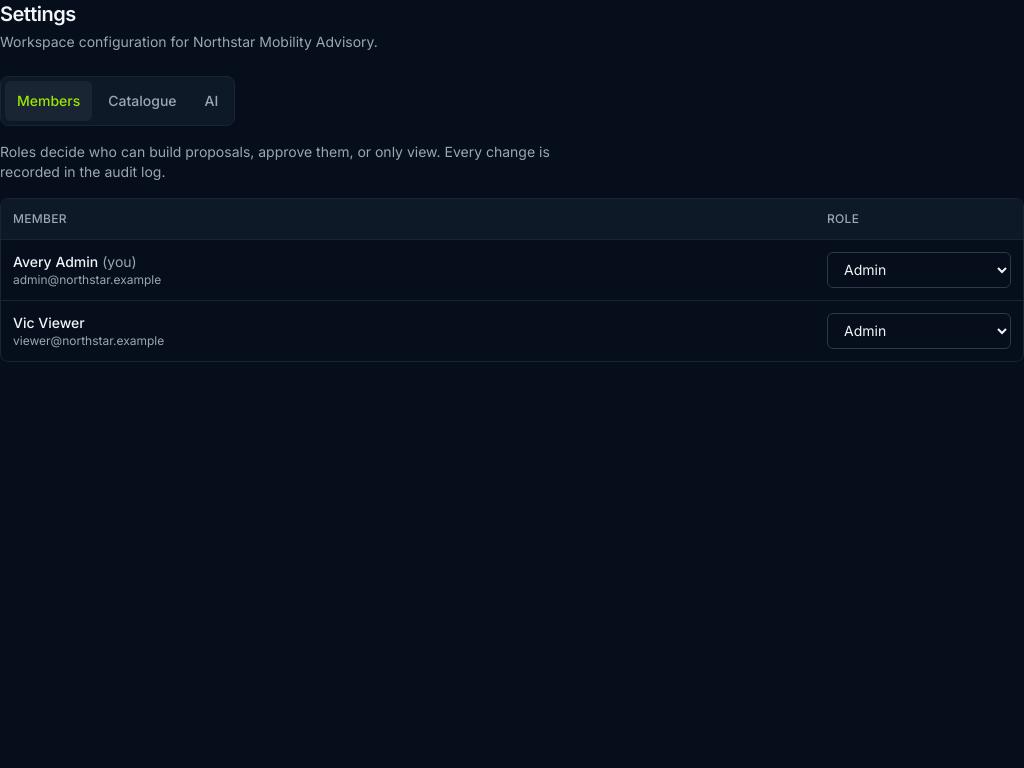
Test case: SettingsPage › warns and refreshes your own access when you step down
Select "Viewer" in the dropdown named "Role for Avery Admin" at (919, 270), box x1=827 y1=252 x2=1011 y2=288
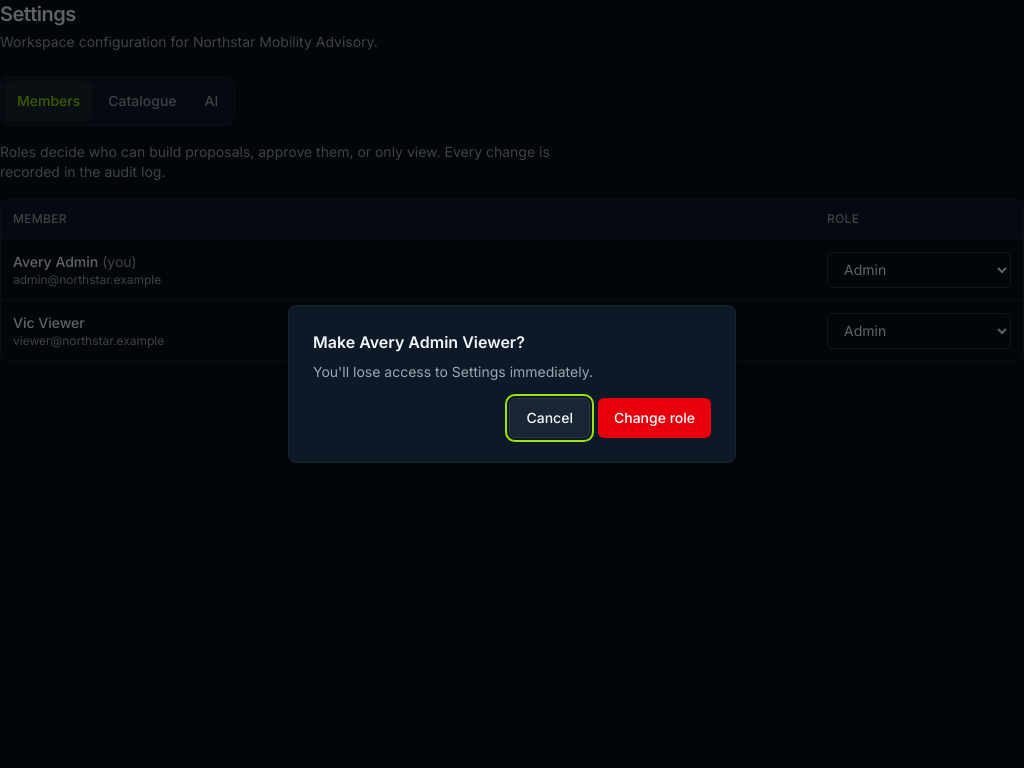
Expected: the text "You'll lose access to Settings immediately." is shown, x1=313 y1=363 x2=593 y2=380
Click the button "Change role" at (654, 418), box x1=598 y1=398 x2=711 y2=438
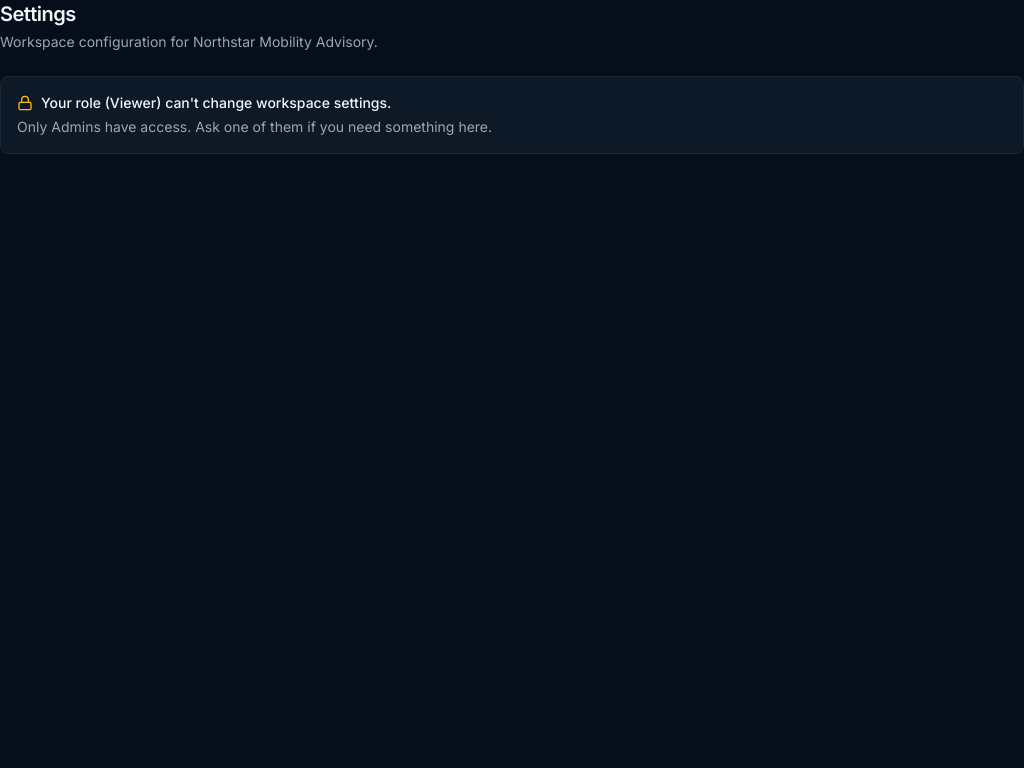
Expected: the text "Your role (Viewer) can't change workspace settings." is shown, x1=17 y1=94 x2=391 y2=111
